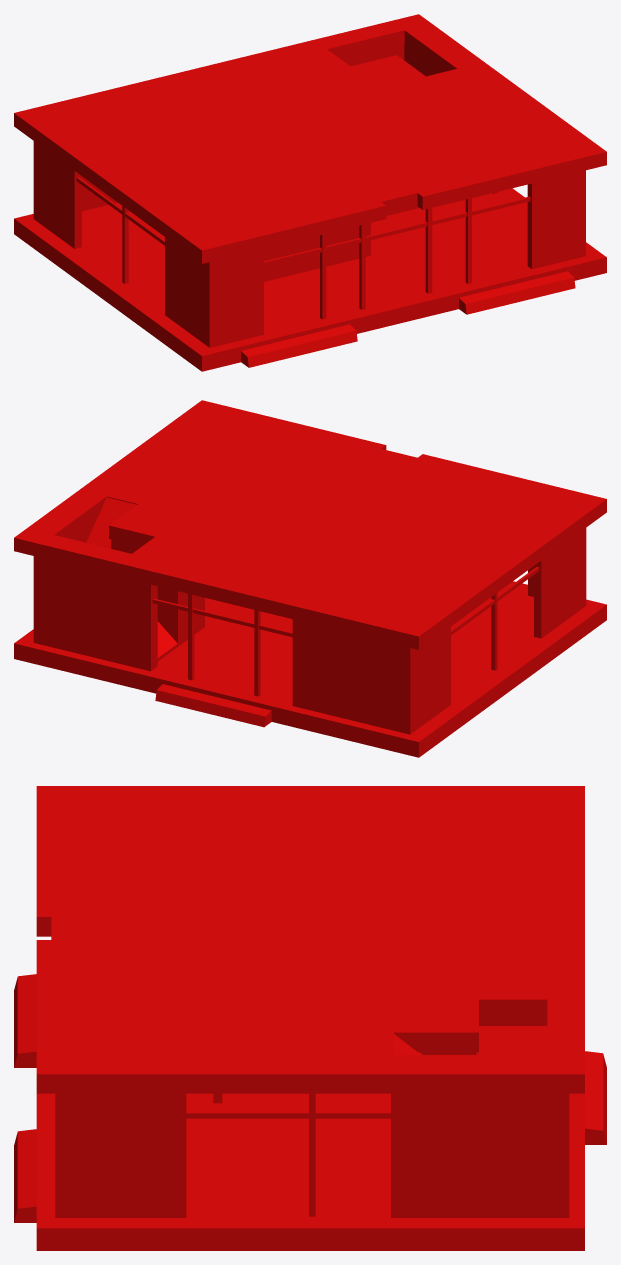
The model's file is SM_Bld_HighRise_Medium_01_Interior_Base_01_Collision.fbx.
3 renders of one model, top to bottom at view 1: azimuth 30°, elevation 25°; view 2: azimuth 150°, elevation 25°; view 3: azimuth 270°, elevation 25°, orthographic. The views are drawn at different scales.
Visible parts, largest first — view 1: SM_Bld_HighRise_Medium_01_Interior_Base_01_Collision; view 2: SM_Bld_HighRise_Medium_01_Interior_Base_01_Collision; view 3: SM_Bld_HighRise_Medium_01_Interior_Base_01_Collision.
Boxes of the visible parts, x1,y1,x2,y2 form: SM_Bld_HighRise_Medium_01_Interior_Base_01_Collision: (14, 14, 606, 371); SM_Bld_HighRise_Medium_01_Interior_Base_01_Collision: (14, 400, 606, 757); SM_Bld_HighRise_Medium_01_Interior_Base_01_Collision: (14, 786, 606, 1250).
Bounding box in the file's own units: 1404 × 402 × 1221.
